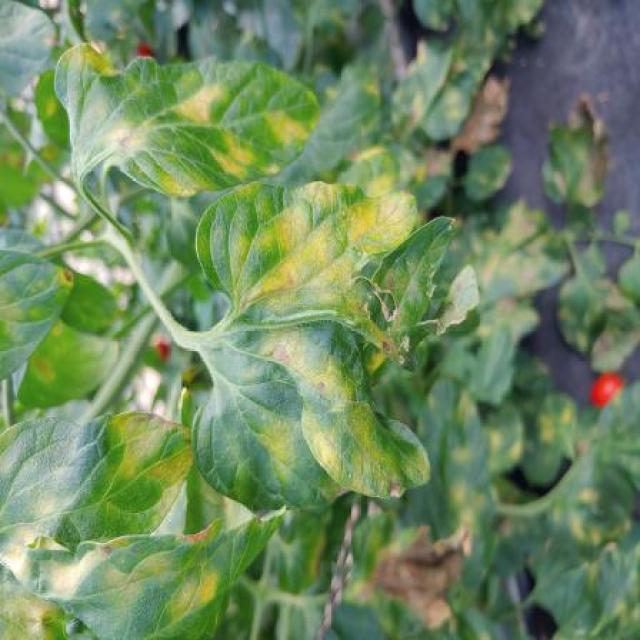Leaf Mold: (192, 178, 481, 512), (53, 44, 321, 197), (0, 410, 194, 550)
